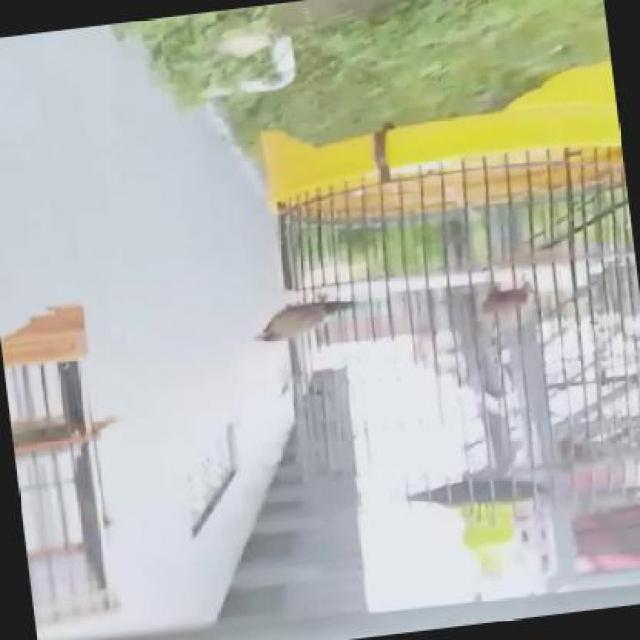Bird: (260, 274, 367, 365)
